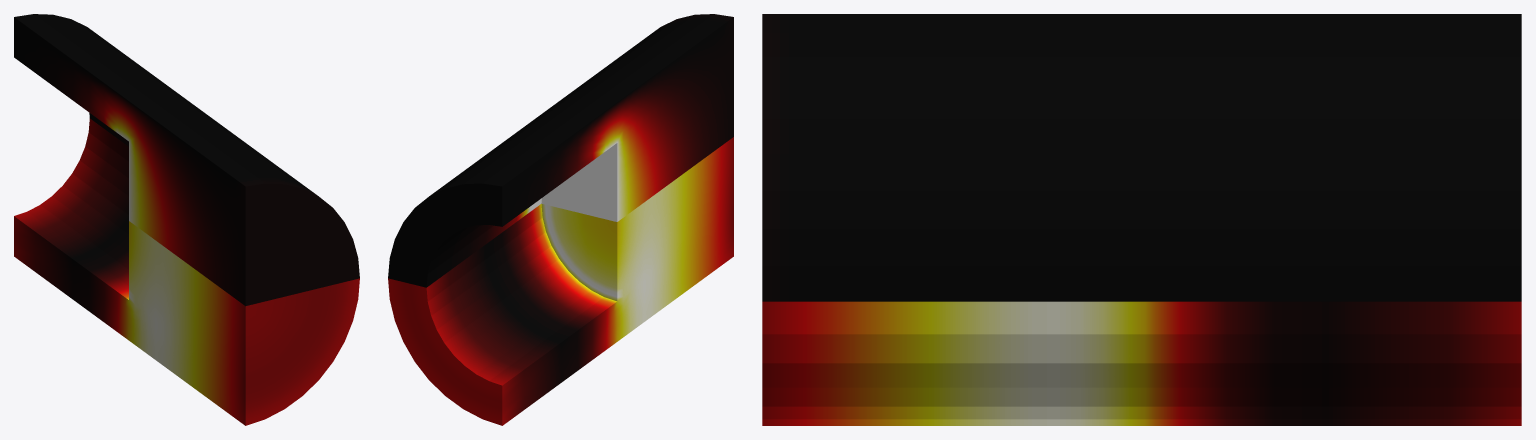
The model's file is Better_GTLF.gltf.
3 views of the same model, side by side, from view 1: azimuth 30°, elevation 25°; view 2: azimuth 150°, elevation 25°; view 3: azimuth 270°, elevation 25° (orthographic). The views are drawn at different scales.
Parts seen in each view (by area): view 1: Renderer Node; view 2: Renderer Node; view 3: Renderer Node.
Part boxes in pixels (x1,y1,x2,y2): Renderer Node: (14, 14, 359, 425); Renderer Node: (388, 14, 733, 425); Renderer Node: (762, 14, 1521, 425).
Bounding box in the file's own units: 5.75 × 11.5 × 20.16.
Materials: 2 (2 with a texture image).
